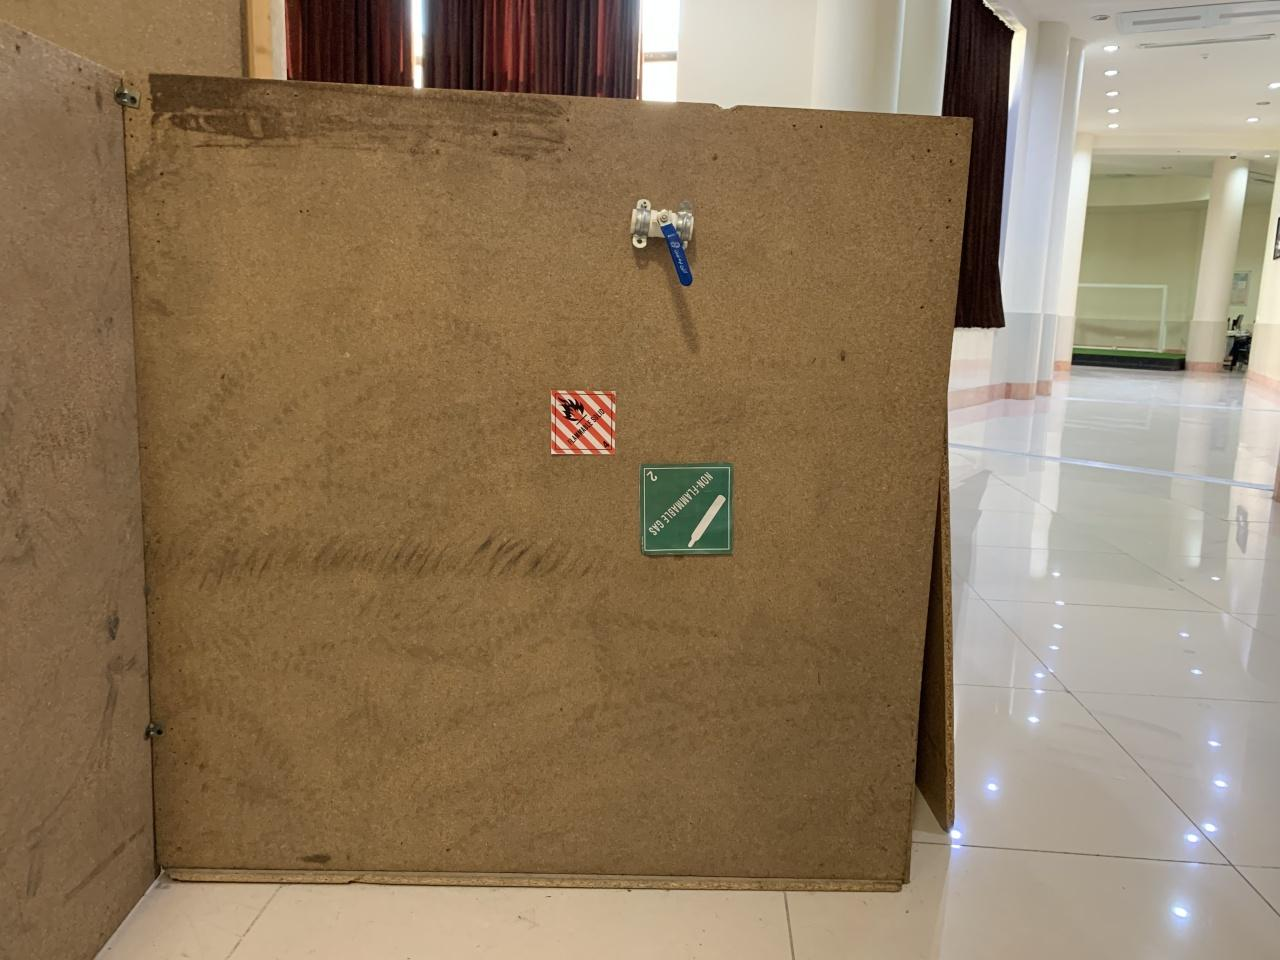flammable-solid: (551, 391, 617, 456)
non-flammable-gas: (640, 463, 734, 558)
